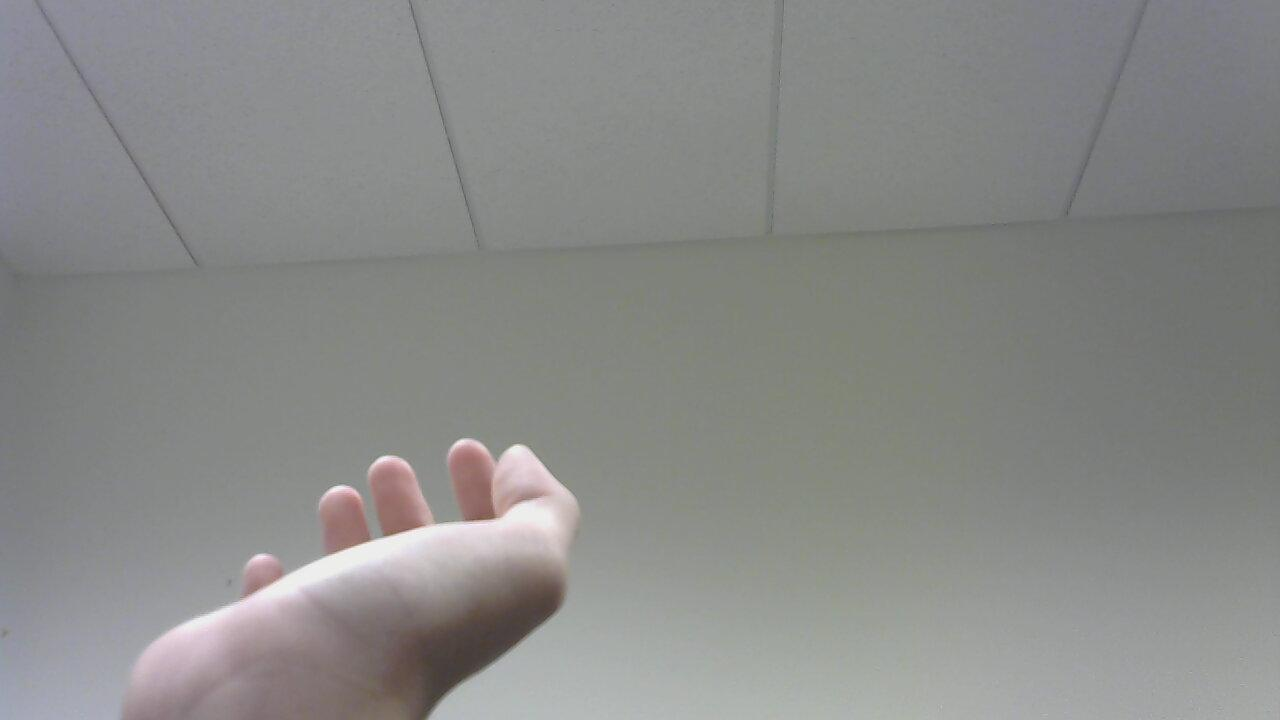hands: (141, 422, 600, 720)
